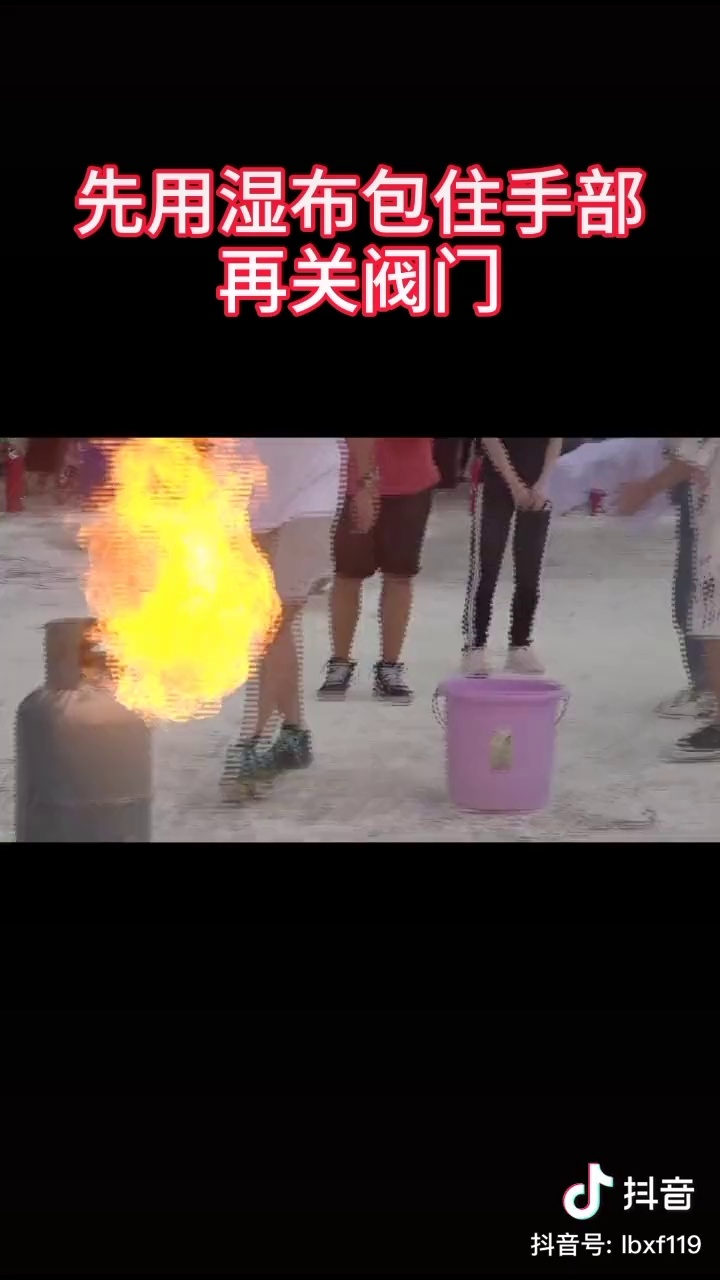fire: (84, 451, 298, 702)
